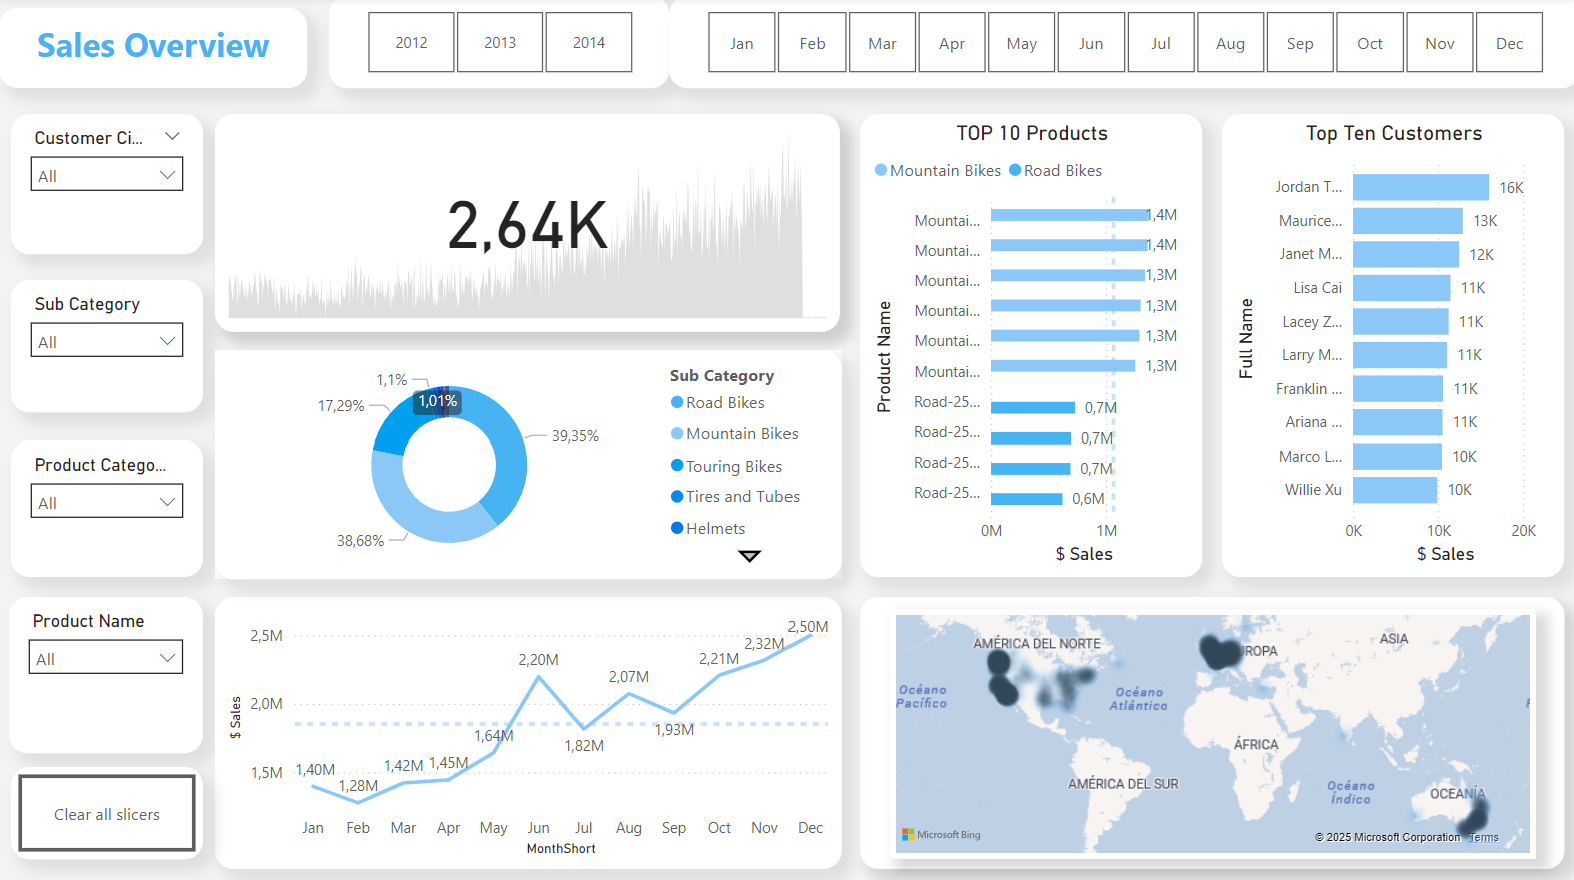

This screenshot's page, from the dashboard's own definition file:
{"tool":"powerbi","page":{"name":"Sales Dashboard","canvas":[1280,720],"ordinal":0},"visuals":[{"type":"textbox","box":[699.4,488,572.5,221.2],"z":2000},{"type":"slicer","fields":{"Values":["DIM_Customers.Customer City"]},"box":[9.8,95.9,156,113.8],"z":3000},{"type":"slicer","fields":{"Values":["DIM_Products.Sub Category"]},"box":[9.8,230.8,156,107.3],"z":4000},{"type":"slicer","fields":{"Values":["DIM_Products.Product Category"]},"box":[9.8,360.8,156,110.5],"z":5000},{"type":"slicer","fields":{"Values":["DIM_Products.Product Name"]},"box":[8.1,487.6,157.7,126.8],"z":6000},{"type":"slicer","fields":{"Values":["DIM_Calendar.Year"]},"box":[268.2,0,276.3,74.8],"z":7000},{"type":"slicer","fields":{"Values":["DIM_Calendar.MonthShort"]},"box":[544.5,0,739.5,74.8],"z":8000},{"type":"kpi","fields":{"TrendLine":["DIM_Calendar.Date"],"Indicator":["key measures.$ Sales"]},"box":[175.5,95.9,507.1,177.2],"z":9000},{"type":"donutChart","title":"Product Category Sales","fields":{"Category":["DIM_Products.Product Category","DIM_Products.Sub Category"],"Y":["key measures.$ Sales"]},"box":[175.8,287.8,508.7,185.3],"z":10000,"group":"g1"},{"type":"lineChart","fields":{"Y":["key measures.$ Sales"],"Category":["DIM_Calendar.MonthShort"]},"box":[175.5,487.6,508.7,221],"z":10000},{"type":"clusteredBarChart","title":"TOP 10 Products","fields":{"Category":["DIM_Products.Product Name"],"Y":["key measures.$ Sales"],"Series":["DIM_Products.Sub Category"]},"box":[698.9,95.9,277.9,375.4],"z":11000},{"type":"clusteredBarChart","title":"Top Ten Customers","fields":{"Category":["DIM_Customers.Full Name"],"Y":["key measures.$ Sales"]},"box":[993,95.9,277.9,375.4],"z":12000},{"type":"map","fields":{"Category":["DIM_Customers.Customer City"]},"box":[723.3,497.3,525,203.2],"z":13000},{"type":"actionButton","box":[9.8,625.7,156,74.8],"z":14000},{"type":"textbox","box":[0,9.8,250.5,65.1],"z":15000},{"type":"group","id":"g1","title":"Group 1","box":[175.8,287.8,508.7,185.3],"z":16000}]}

Visuals, with their boxes in screenshot pixels (x1, y1, x2, y2), scaled from the page's 1280x720 canvas onto the 1574x880 screenshot:
textbox: bbox=(860, 596, 1564, 867)
slicer - DIM_Customers.Customer City: bbox=(12, 117, 204, 256)
slicer - DIM_Products.Sub Category: bbox=(12, 282, 204, 413)
slicer - DIM_Products.Product Category: bbox=(12, 441, 204, 576)
slicer - DIM_Products.Product Name: bbox=(10, 596, 204, 751)
slicer - DIM_Calendar.Year: bbox=(330, 0, 670, 91)
slicer - DIM_Calendar.MonthShort: bbox=(670, 0, 1573, 91)
kpi - DIM_Calendar.Date x key measures.$ Sales: bbox=(216, 117, 839, 334)
"Product Category Sales" donutChart: bbox=(216, 352, 842, 578)
lineChart - key measures.$ Sales x DIM_Calendar.MonthShort: bbox=(216, 596, 841, 866)
"TOP 10 Products" clusteredBarChart: bbox=(859, 117, 1201, 576)
"Top Ten Customers" clusteredBarChart: bbox=(1221, 117, 1563, 576)
map - DIM_Customers.Customer City: bbox=(889, 608, 1535, 856)
actionButton: bbox=(12, 765, 204, 856)
textbox: bbox=(0, 12, 308, 92)
"Group 1" group: bbox=(216, 352, 842, 578)
